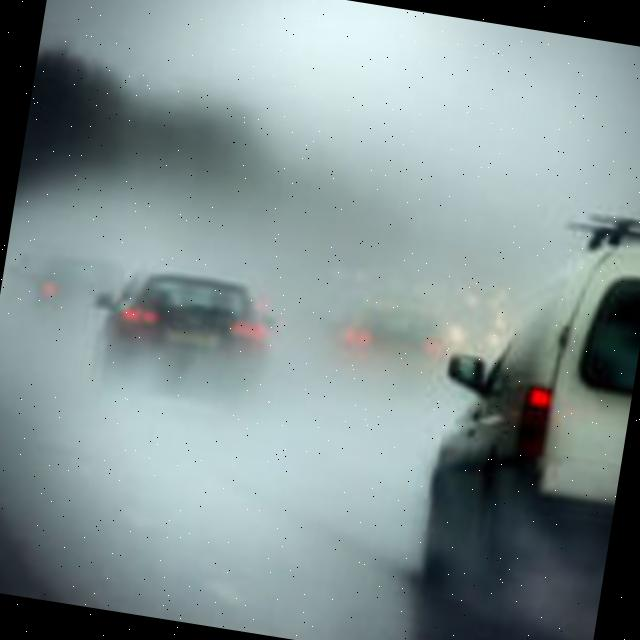car: (404, 193, 640, 640), (82, 260, 282, 430), (322, 288, 452, 404), (30, 252, 126, 340)
